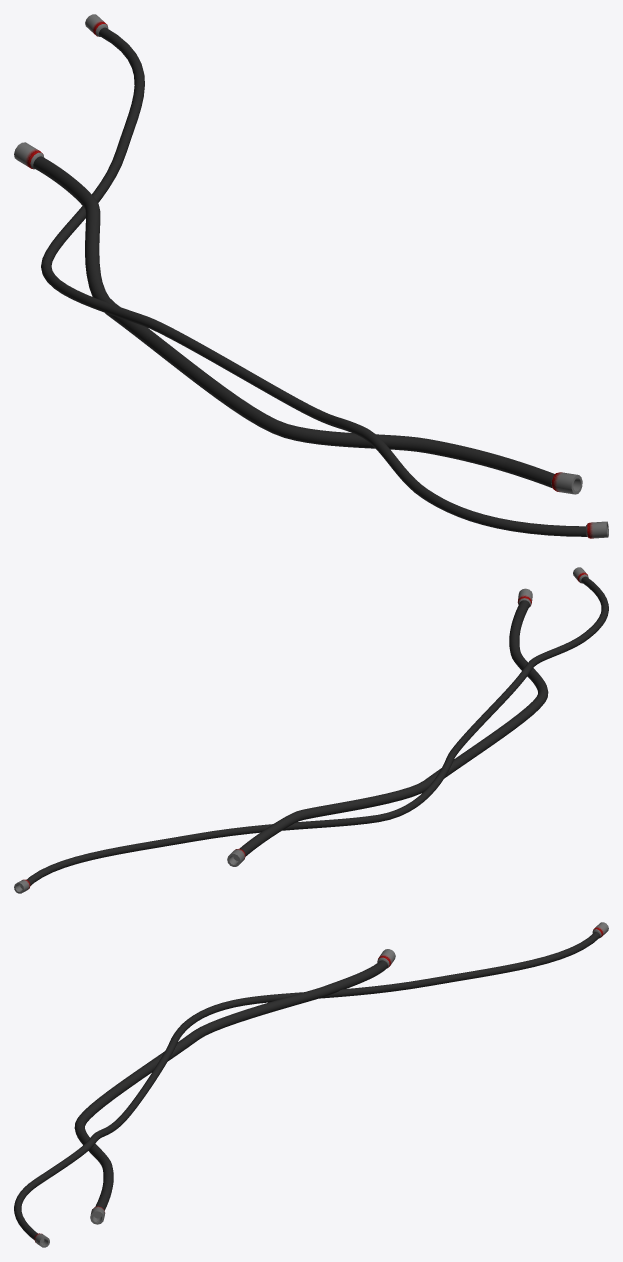
File: cable.gltf
The picture shows the model from 3 angles, top to bottom: view 1: azimuth 30°, elevation 25°; view 2: azimuth 150°, elevation 25°; view 3: azimuth 330°, elevation 25°; orthographic projection. The views are drawn at different scales.
Visible parts, largest first — view 1: Prop_Cable_3; view 2: Prop_Cable_3; view 3: Prop_Cable_3.
Boxes of the visible parts, box(x1,y1,x2,y2) form: Prop_Cable_3: box(14, 14, 608, 538); Prop_Cable_3: box(14, 567, 608, 893); Prop_Cable_3: box(14, 922, 608, 1247).
Bounding box in the file's own units: 1.56 × 0.117 × 5.73.
2 materials, 2 textured.
